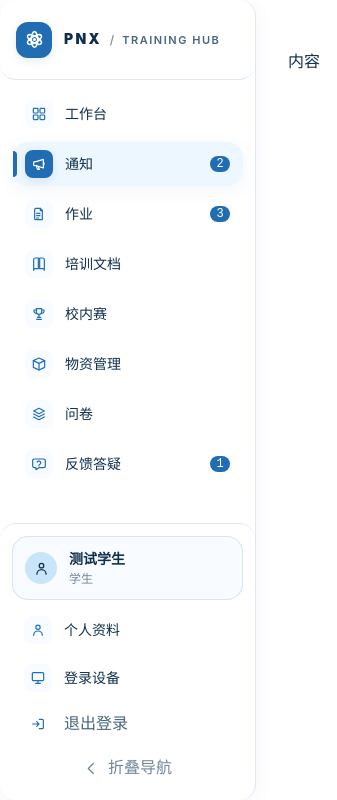
Test case: announcement UI › shows the unread badge and student navigation
Step 1. Click the button with aria-label "折叠主要导航" → (128, 768), box [12,748,243,788]
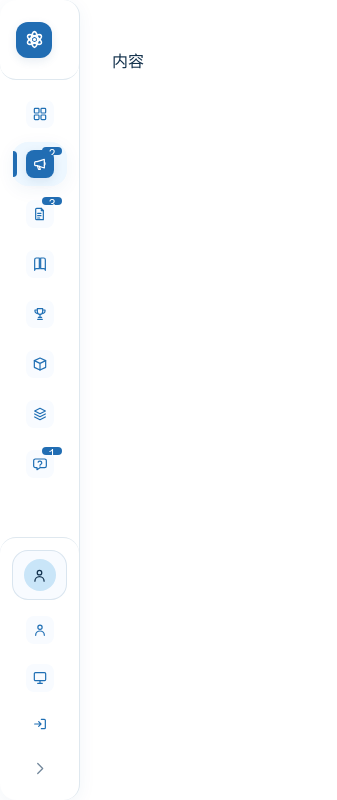
Expected: the button named "展开主要导航" is shown, [12,748,67,788]
